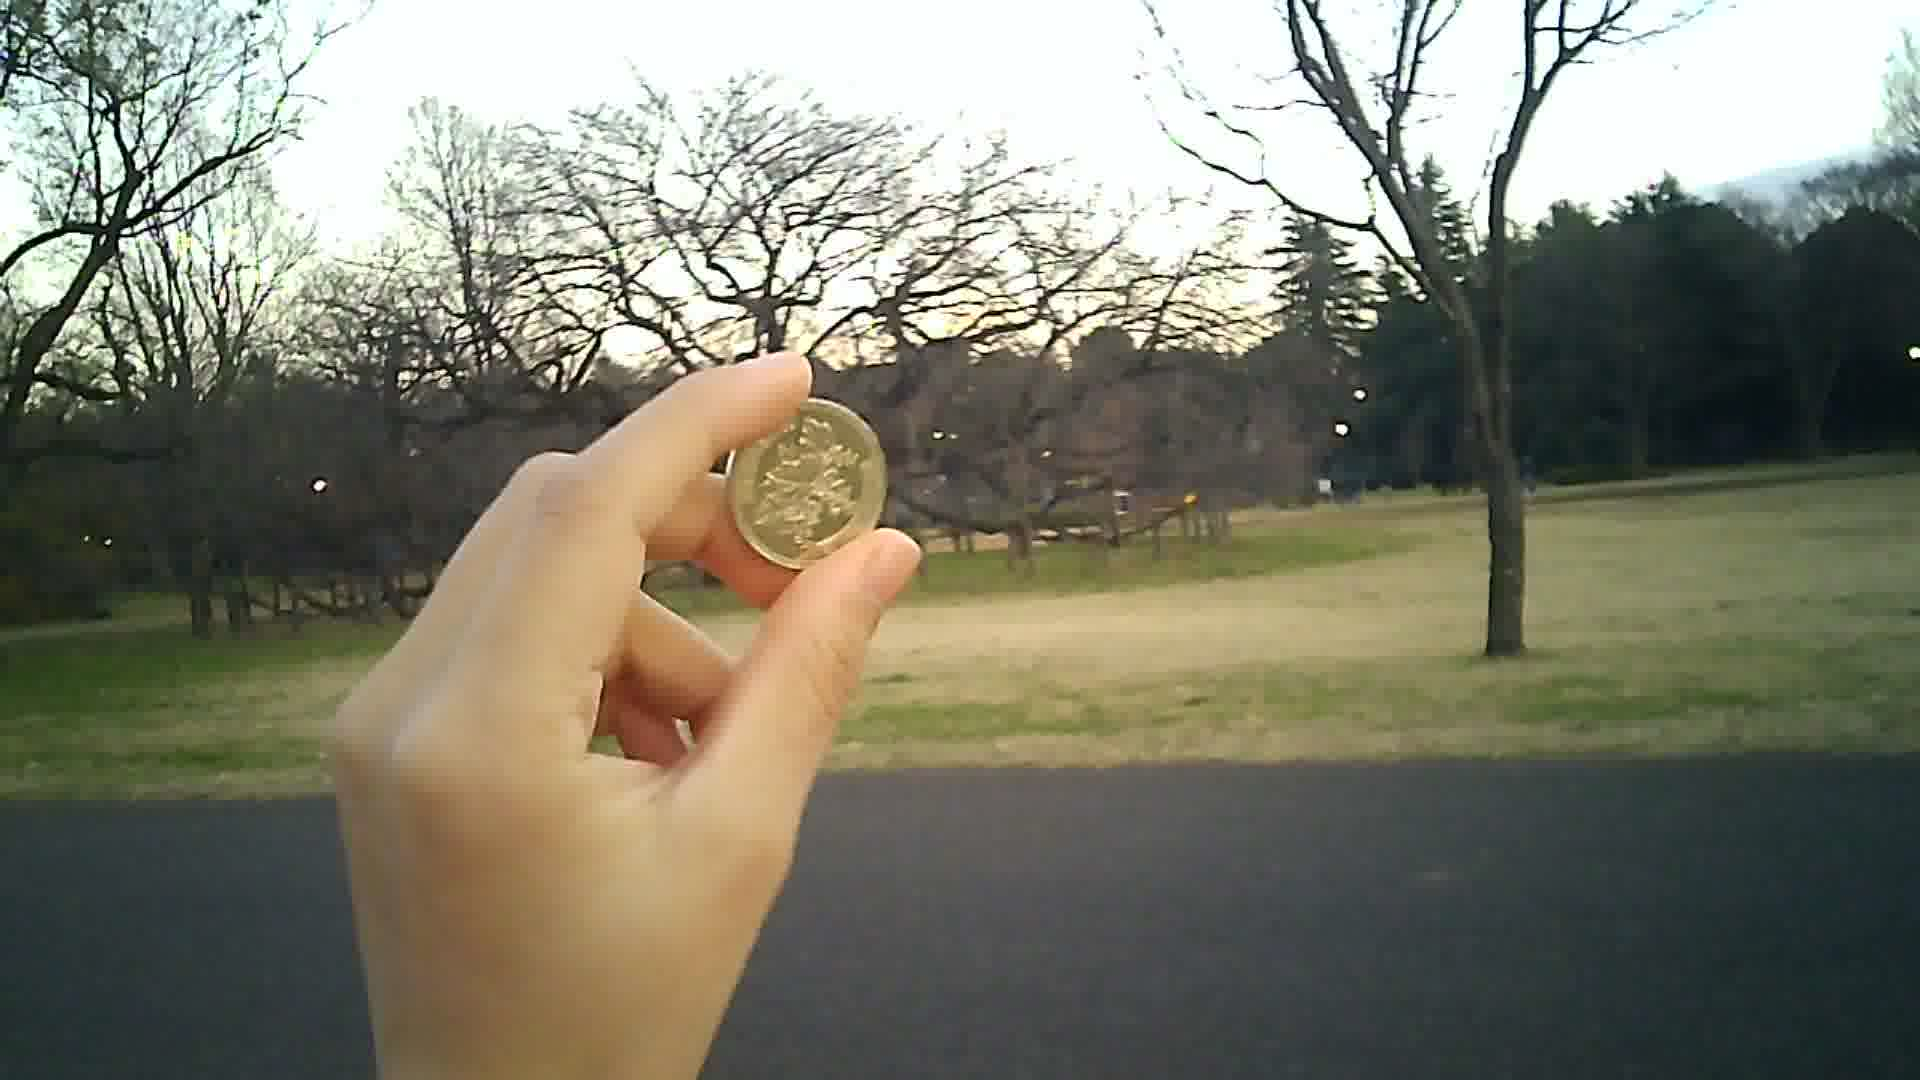500 Yen: (727, 385, 891, 572)
